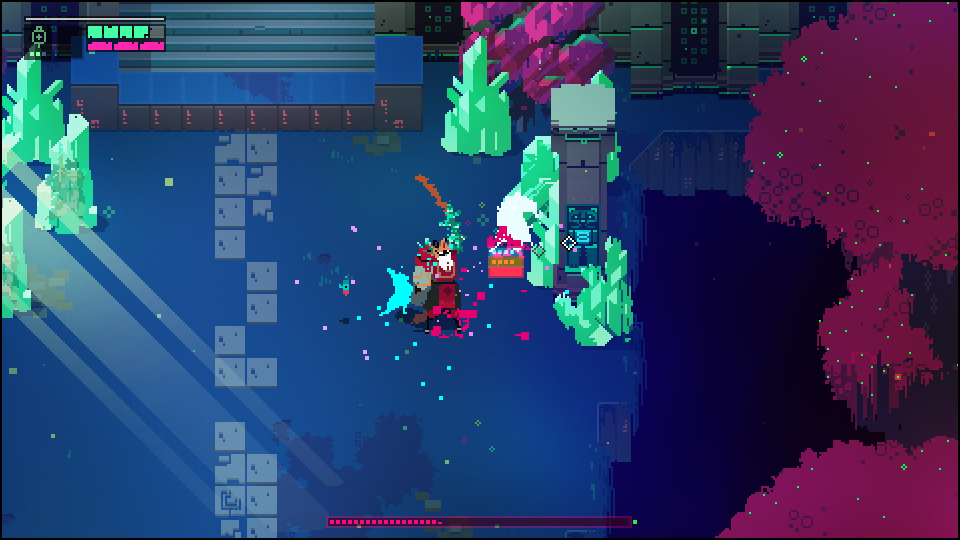hanged_man: (408, 194, 470, 326)
player: (381, 265, 417, 320)
